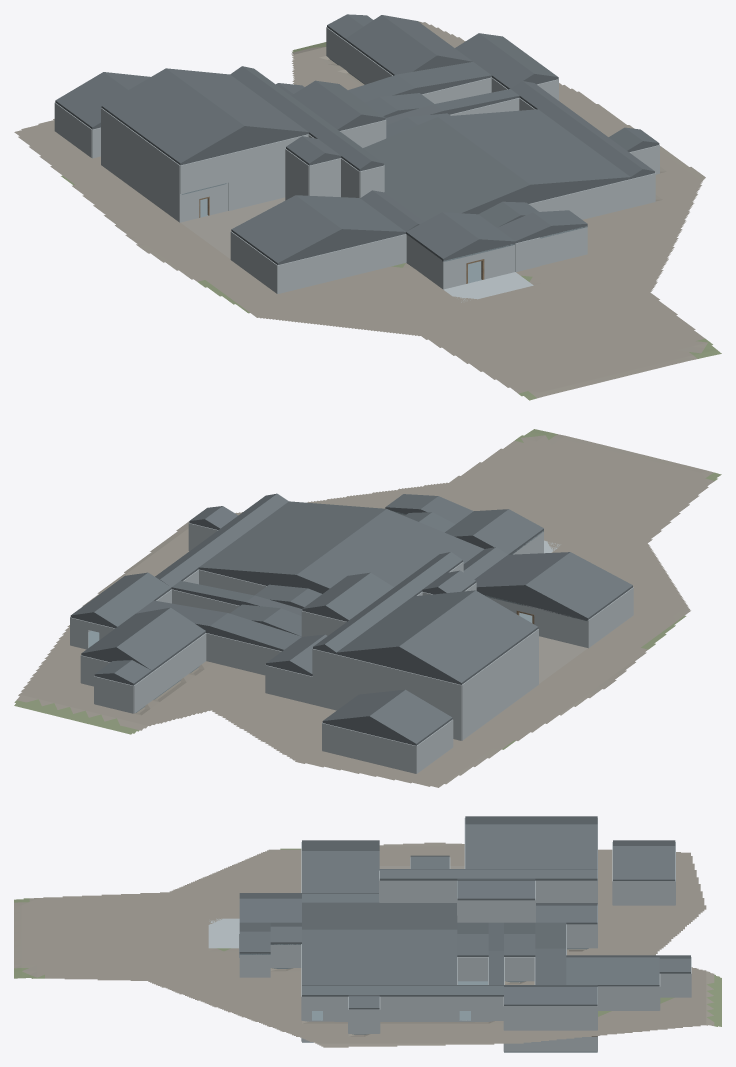
The model's file is asylum-upper-spine.glb.
The picture shows the model from 3 angles, top to bottom: view 1: azimuth 30°, elevation 25°; view 2: azimuth 150°, elevation 25°; view 3: azimuth 270°, elevation 25°; orthographic projection. The views are drawn at different scales.
Visible parts, largest first — view 1: Saved editor geographic earthworks ASYLUM, clinical-and-dining roof west, clinical-and-dining roof east, two-storey-ward roof west, day-pavilion roof west, Wall day S, two-storey-ward roof east, quiet-pavilion roof west, upper-spine roof west, Wall meal-return S, day-pavilion roof east, service-corridor roof west (+44 smaller); view 2: Saved editor geographic earthworks ASYLUM, clinical-and-dining roof east, clinical-and-dining roof west, two-storey-ward roof west, day-pavilion roof west, two-storey-ward roof east, quiet-pavilion roof west, Wall chapel N, chapel roof west, upper-spine roof west, day-pavilion roof east, service-corridor roof west (+44 smaller); view 3: Saved editor geographic earthworks ASYLUM, clinical-and-dining roof east, two-storey-ward roof east, clinical-and-dining roof west, Flat route shell Wall service E, day-pavilion roof east, quiet-pavilion roof east, upper-spine roof east, Wall service-stair E, service-corridor roof east, chapel roof east, service-stair roof east (+31 smaller).
Part boxes in pixels (left/top/right/bottom): Saved editor geographic earthworks ASYLUM: left=14, top=21, right=721, bottom=400; clinical-and-dining roof west: left=363, top=117, right=530, bottom=221; clinical-and-dining roof east: left=438, top=109, right=630, bottom=186; two-storey-ward roof west: left=101, top=68, right=244, bottom=164; day-pavilion roof west: left=231, top=195, right=341, bottom=264; Wall day S: left=277, top=234, right=406, bottom=293; two-storey-ward roof east: left=166, top=68, right=308, bottom=133; quiet-pavilion roof west: left=345, top=15, right=437, bottom=75; upper-spine roof west: left=230, top=66, right=371, bottom=170; Wall meal-return S: left=529, top=179, right=631, bottom=219; day-pavilion roof east: left=296, top=195, right=405, bottom=233; service-corridor roof west: left=511, top=81, right=642, bottom=178; Saved editor geographic earthworks ASYLUM: left=14, top=429, right=721, bottom=787; clinical-and-dining roof east: left=198, top=501, right=386, bottom=576; clinical-and-dining roof west: left=296, top=509, right=483, bottom=589; two-storey-ward roof west: left=399, top=590, right=538, bottom=684; day-pavilion roof west: left=525, top=552, right=632, bottom=619; two-storey-ward roof east: left=336, top=590, right=475, bottom=654; quiet-pavilion roof west: left=116, top=607, right=205, bottom=671; Wall chapel N: left=322, top=723, right=416, bottom=773; chapel roof west: left=369, top=689, right=452, bottom=745; upper-spine roof west: left=324, top=552, right=462, bottom=653; day-pavilion roof east: left=474, top=552, right=569, bottom=588; service-corridor roof west: left=160, top=493, right=288, bottom=587; Saved editor geographic earthworks ASYLUM: left=14, top=842, right=721, bottom=1047; clinical-and-dining roof east: left=302, top=929, right=457, bottom=984; two-storey-ward roof east: left=465, top=824, right=597, bottom=868; clinical-and-dining roof west: left=302, top=902, right=457, bottom=929; Flat route shell Wall service E: left=323, top=996, right=503, bottom=1020; day-pavilion roof east: left=302, top=851, right=379, bottom=892; quiet-pavilion roof east: left=566, top=957, right=659, bottom=986; upper-spine roof east: left=379, top=869, right=597, bottom=880; Wall service-stair E: left=504, top=1006, right=597, bottom=1030; service-corridor roof east: left=302, top=985, right=503, bottom=996; chapel roof east: left=613, top=846, right=675, bottom=881; service-stair roof east: left=504, top=987, right=597, bottom=1006.
Size of the model in its own units: 62 by 12.8 by 91.
Materials: 52 (31 with a texture image).
